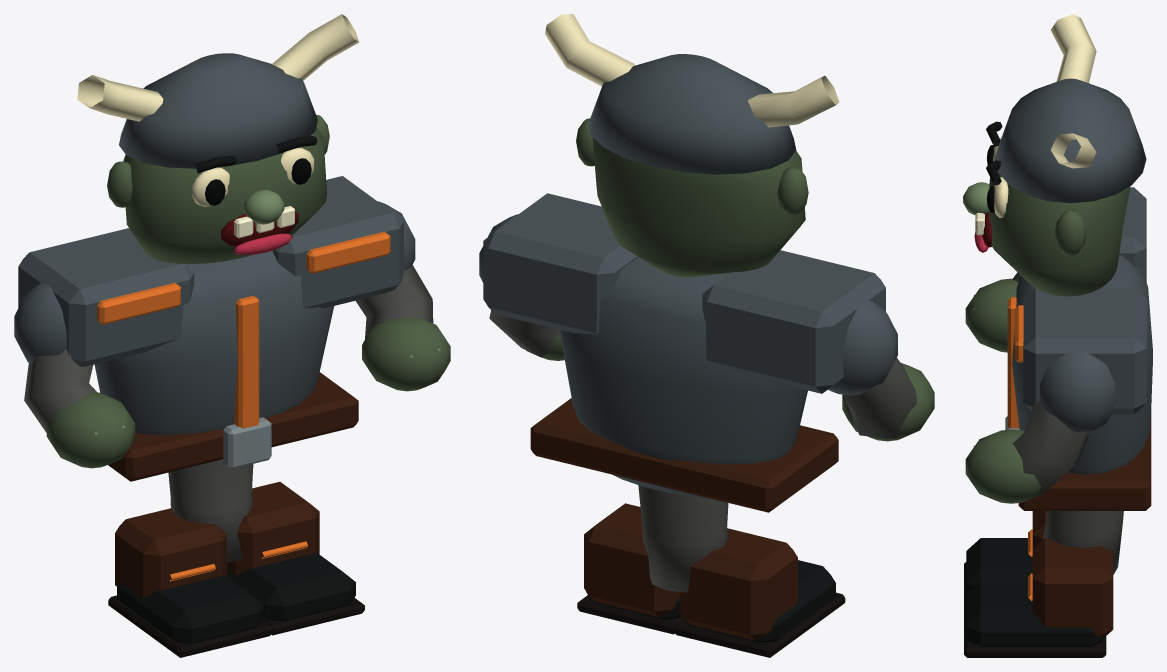
File: titan.glb
3 views of the same model, side by side, from view 1: azimuth 30°, elevation 25°; view 2: azimuth 150°, elevation 25°; view 3: azimuth 270°, elevation 25° (orthographic). The views are drawn at different scales.
Visible parts, largest first — view 1: Arms, Head, Body, LegL, LegR; view 2: Head, Arms, Body, LegL, LegR; view 3: Head, Arms, LegR, Body, LegL.
Boxes of the visible parts, box(x1,y1,x2,y2) form: Arms: box(14, 176, 450, 468); Head: box(77, 14, 359, 264); Body: box(94, 251, 358, 481); LegL: box(108, 459, 271, 657); LegR: box(173, 464, 364, 635); Head: box(545, 14, 839, 277); Arms: box(479, 193, 934, 441); Body: box(530, 257, 838, 512); LegL: box(638, 485, 845, 657); LegR: box(577, 503, 710, 634); Head: box(963, 14, 1146, 296); Arms: box(965, 187, 1146, 503); LegR: box(964, 511, 1122, 657); Body: box(1005, 255, 1152, 510); LegL: box(964, 511, 1123, 607).
Size of the model in its own units: 0.956 by 1.26 by 0.4005.
Materials: 1 (1 with a texture image).
